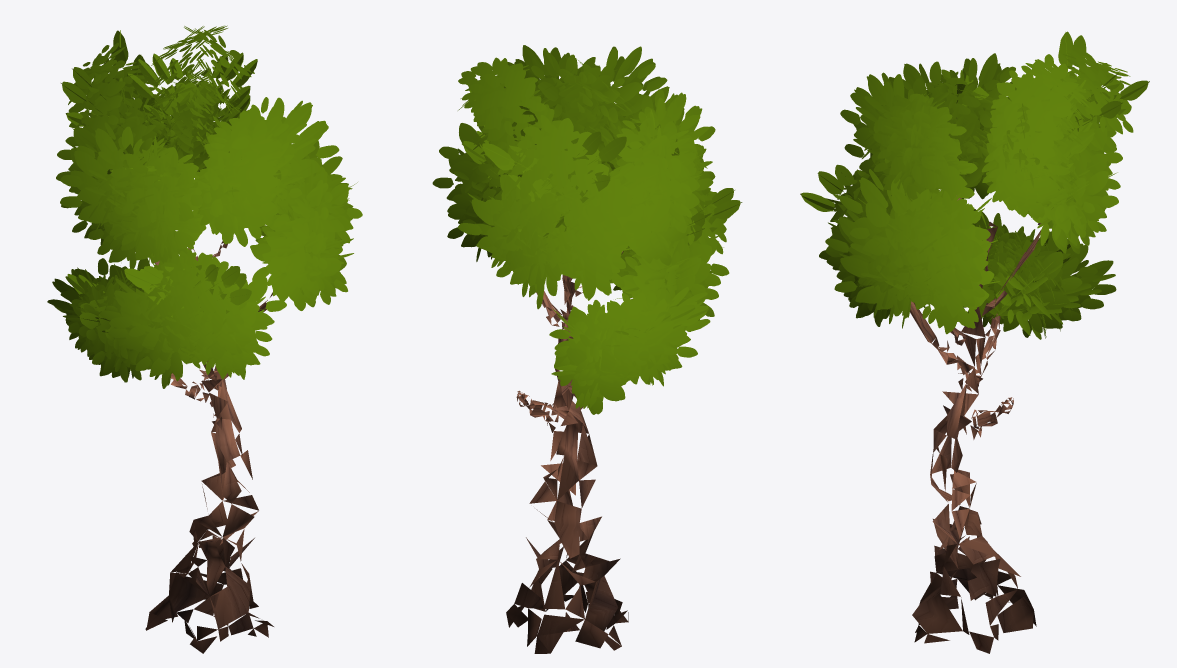
File: tree_5.gltf
3 renders of one model, left to right at view 1: azimuth 30°, elevation 25°; view 2: azimuth 150°, elevation 25°; view 3: azimuth 270°, elevation 25°, orthographic. The views are drawn at different scales.
Visible parts, largest first — view 1: CommonTree_5; view 2: CommonTree_5; view 3: CommonTree_5.
Boxes of the visible parts, x1,y1,x2,y2 form: CommonTree_5: (47, 25, 362, 653); CommonTree_5: (432, 45, 742, 653); CommonTree_5: (800, 31, 1149, 653).
Bounding box in the file's own units: 3.67 × 6.76 × 3.89.
2 materials, 2 textured.
